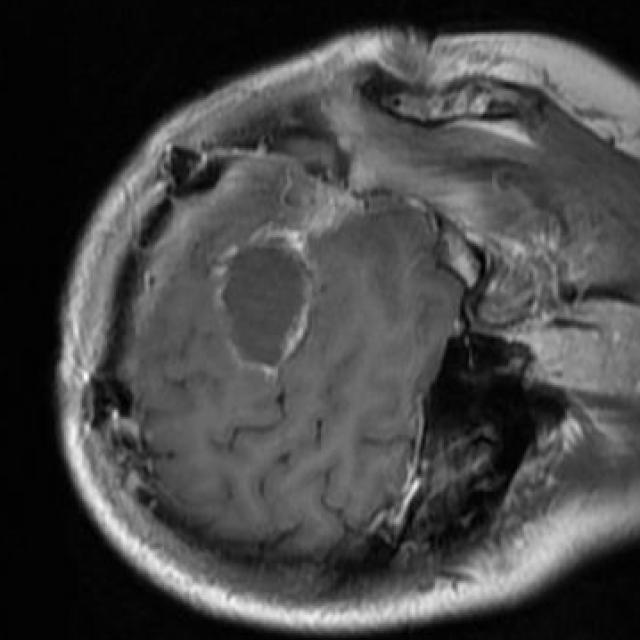glioma: (217, 223, 312, 371)
